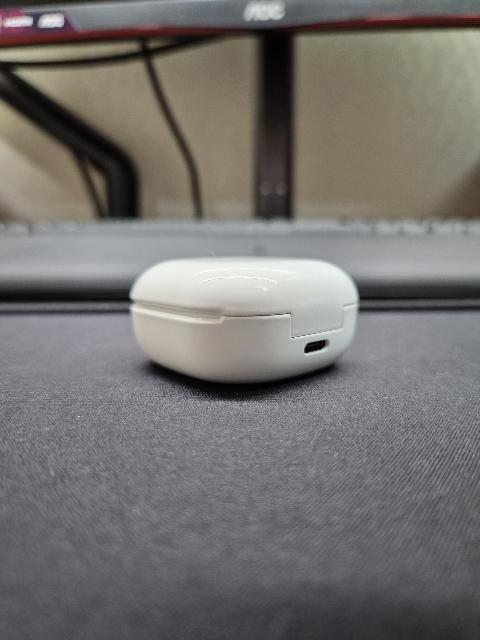earphone_case: (129, 256, 360, 384)
